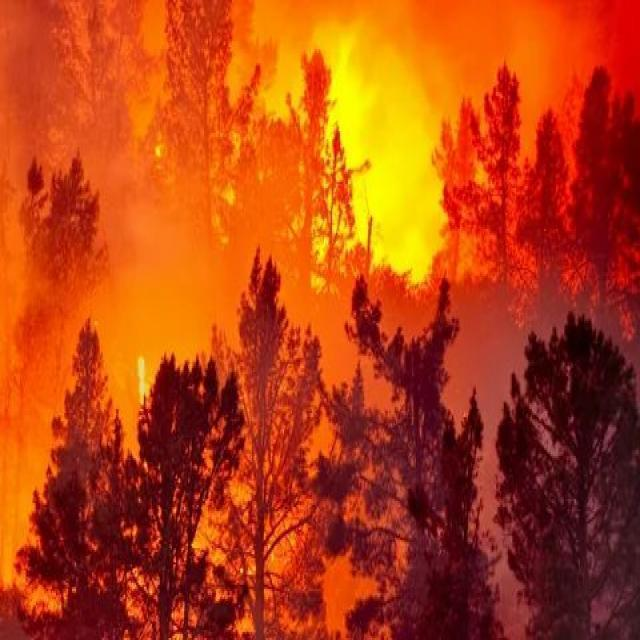Fire: (283, 56, 487, 314)
